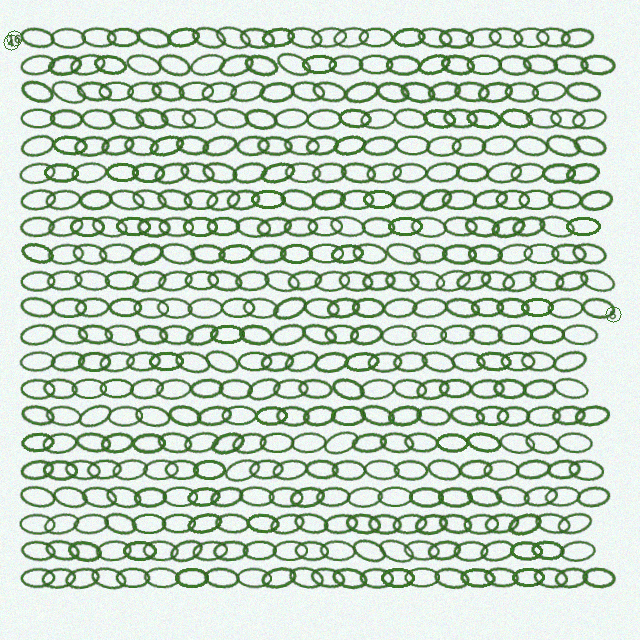chain: (273, 48, 314, 81), (48, 76, 89, 108), (269, 292, 310, 324), (376, 535, 417, 567), (75, 400, 115, 432), (577, 265, 618, 296), (213, 22, 253, 53), (416, 184, 456, 215), (202, 346, 242, 377), (321, 427, 361, 458), (349, 535, 389, 566), (222, 455, 263, 485), (18, 76, 57, 107), (167, 535, 206, 566), (216, 50, 256, 80), (383, 239, 423, 269), (155, 50, 194, 80), (127, 239, 166, 269), (183, 320, 222, 350), (244, 374, 283, 404), (329, 374, 368, 404), (208, 428, 247, 458), (505, 509, 544, 539), (189, 23, 229, 52), (188, 50, 228, 79), (543, 131, 583, 160), (537, 212, 577, 241), (433, 266, 473, 295), (268, 320, 308, 349), (299, 320, 339, 349), (550, 347, 590, 376), (357, 401, 397, 430), (555, 509, 595, 538), (415, 50, 454, 79), (18, 131, 57, 160), (18, 239, 57, 268), (282, 347, 321, 376), (101, 509, 140, 538), (262, 267, 302, 295), (134, 24, 173, 52), (124, 51, 163, 79), (310, 78, 349, 106), (342, 78, 381, 106), (398, 78, 437, 106), (107, 105, 146, 133), (147, 132, 186, 160), (200, 132, 239, 160), (152, 159, 191, 187), (258, 159, 297, 187), (130, 186, 169, 214), (130, 267, 169, 295), (500, 267, 539, 295), (173, 348, 212, 376), (523, 429, 562, 457), (51, 483, 90, 511), (104, 483, 143, 511), (42, 510, 81, 538), (268, 510, 307, 538), (89, 564, 128, 592), (242, 51, 280, 79), (571, 132, 609, 160), (204, 186, 242, 214), (489, 213, 527, 241), (553, 267, 591, 295), (419, 348, 457, 376), (208, 483, 246, 511), (285, 24, 324, 51), (68, 51, 107, 78), (228, 78, 267, 105), (178, 159, 217, 186), (200, 159, 239, 186), (230, 159, 269, 186), (155, 186, 194, 213), (278, 186, 317, 213), (46, 213, 85, 240), (90, 213, 129, 240), (328, 213, 367, 240), (158, 240, 197, 267), (570, 240, 609, 267), (205, 267, 244, 294), (454, 267, 493, 294), (18, 294, 57, 321), (18, 321, 57, 348), (551, 375, 590, 402), (182, 429, 221, 456), (464, 429, 503, 456), (18, 483, 57, 510), (493, 483, 532, 510), (185, 510, 224, 537), (533, 510, 572, 537), (43, 537, 82, 564), (478, 537, 517, 564), (259, 564, 298, 591), (287, 564, 326, 591), (149, 78, 187, 105), (133, 105, 171, 132), (99, 132, 137, 159), (331, 132, 369, 159), (510, 213, 548, 240), (19, 402, 57, 429), (166, 402, 204, 429), (425, 456, 463, 483), (292, 510, 330, 537), (18, 25, 57, 51), (570, 106, 609, 132), (18, 160, 57, 186), (107, 187, 146, 213), (156, 268, 195, 294), (133, 403, 172, 429), (230, 430, 269, 456), (63, 565, 102, 591), (330, 565, 369, 591), (432, 565, 471, 591), (238, 25, 276, 51), (416, 25, 454, 51), (19, 52, 57, 78), (374, 79, 412, 105), (476, 79, 514, 105), (564, 79, 602, 105), (242, 106, 280, 132), (512, 133, 550, 159), (255, 214, 293, 240), (71, 241, 109, 267), (496, 241, 534, 267), (408, 268, 446, 294), (443, 295, 481, 321), (103, 322, 141, 348), (98, 349, 136, 375), (312, 349, 350, 375), (414, 376, 452, 402), (195, 403, 233, 429), (448, 403, 486, 429), (498, 430, 536, 456), (271, 457, 309, 483), (80, 484, 118, 510), (288, 484, 326, 510), (465, 484, 503, 510), (309, 565, 347, 591), (70, 160, 109, 185), (46, 52, 83, 78), (92, 52, 129, 78), (564, 160, 601, 186), (390, 187, 427, 213), (578, 187, 615, 213), (479, 268, 516, 294), (580, 295, 617, 321), (19, 457, 56, 483), (413, 511, 450, 537), (437, 511, 474, 537), (66, 538, 103, 564), (310, 25, 348, 50), (332, 25, 370, 50), (487, 25, 525, 50), (521, 52, 559, 77), (75, 79, 113, 104), (159, 106, 197, 131), (212, 106, 250, 131), (339, 160, 377, 185), (485, 160, 523, 185), (19, 187, 57, 212), (471, 187, 509, 212), (463, 214, 501, 239), (351, 241, 389, 266), (73, 268, 111, 293), (286, 268, 324, 293), (528, 268, 566, 293), (51, 322, 89, 347), (76, 322, 114, 347), (49, 349, 87, 374), (573, 403, 611, 428), (74, 430, 112, 455), (156, 430, 194, 455), (378, 430, 416, 455), (111, 457, 149, 482), (514, 457, 552, 482), (344, 511, 382, 536), (483, 511, 521, 536), (165, 25, 202, 50), (260, 25, 297, 50), (439, 52, 476, 77), (289, 79, 326, 104), (426, 79, 463, 104), (392, 106, 429, 131), (498, 106, 535, 131), (174, 133, 211, 158), (304, 133, 341, 158), (480, 133, 517, 158), (424, 160, 461, 185), (225, 187, 262, 212), (310, 187, 347, 212), (325, 295, 362, 320), (237, 322, 274, 347), (348, 322, 385, 347), (128, 376, 165, 401), (301, 403, 338, 428), (386, 403, 423, 428), (99, 430, 136, 455), (522, 484, 559, 509), (575, 484, 612, 509), (426, 538, 463, 563), (532, 565, 569, 590), (553, 565, 590, 590), (200, 80, 238, 104), (359, 107, 397, 131), (365, 161, 403, 185), (509, 161, 547, 185), (44, 188, 82, 212), (234, 215, 272, 239), (410, 215, 448, 239), (47, 242, 85, 266), (313, 269, 351, 293), (337, 269, 375, 293), (242, 296, 280, 320), (358, 377, 396, 401), (41, 431, 79, 455), (350, 431, 388, 455), (567, 458, 605, 482), (346, 485, 384, 509), (72, 512, 110, 536), (322, 512, 360, 536), (391, 512, 429, 536), (191, 539, 229, 563), (465, 26, 502, 50), (559, 26, 596, 50), (258, 80, 295, 104), (421, 107, 458, 131), (465, 107, 502, 131), (549, 107, 586, 131), (73, 134, 110, 158), (123, 134, 160, 158), (361, 134, 398, 158), (425, 134, 462, 158), (217, 242, 254, 266), (329, 242, 366, 266), (156, 296, 193, 320), (303, 296, 340, 320), (411, 296, 448, 320), (133, 323, 170, 347), (259, 350, 296, 374), (343, 350, 380, 374), (155, 377, 192, 401), (297, 377, 334, 401), (391, 377, 428, 401), (521, 377, 558, 401), (45, 404, 82, 428), (415, 404, 452, 428), (64, 458, 101, 482), (363, 458, 400, 482), (559, 539, 596, 563), (40, 566, 77, 590), (284, 161, 322, 184), (561, 323, 599, 346), (319, 539, 357, 562), (143, 566, 181, 589), (497, 53, 533, 77), (80, 107, 116, 131), (361, 269, 397, 293), (384, 269, 420, 293), (382, 296, 418, 320), (450, 350, 486, 374), (186, 485, 222, 509), (20, 539, 56, 563), (80, 26, 117, 49), (552, 53, 589, 76), (579, 53, 616, 76), (126, 80, 163, 103), (453, 80, 490, 103), (531, 80, 568, 103), (181, 107, 218, 130), (273, 107, 310, 130), (442, 107, 479, 130), (525, 107, 562, 130), (51, 134, 88, 157), (283, 134, 320, 157), (311, 161, 348, 184), (19, 215, 56, 238), (98, 242, 135, 265), (550, 242, 587, 265), (46, 269, 83, 292), (74, 296, 111, 319), (439, 323, 476, 346), (19, 350, 56, 373), (125, 350, 162, 373), (392, 350, 429, 373), (475, 350, 512, 373), (520, 350, 557, 373), (42, 377, 79, 400), (290, 431, 327, 454), (556, 431, 593, 454), (86, 458, 123, 481), (142, 458, 179, 481), (238, 485, 275, 508), (544, 485, 581, 508), (214, 512, 251, 535), (95, 539, 132, 562), (142, 539, 179, 562), (212, 539, 249, 562), (403, 539, 440, 562), (203, 566, 240, 589), (483, 566, 520, 589), (380, 324, 418, 346), (391, 26, 427, 49), (535, 26, 571, 49), (337, 107, 373, 130), (235, 134, 271, 157), (78, 188, 114, 211), (442, 215, 478, 238), (234, 269, 270, 292), (495, 296, 531, 319), (468, 323, 504, 346), (189, 377, 225, 400), (492, 377, 528, 400), (551, 404, 587, 427), (20, 431, 56, 454), (403, 431, 439, 454), (248, 458, 284, 481), (304, 458, 340, 481), (458, 458, 494, 481), (546, 458, 582, 481), (245, 512, 281, 535), (530, 539, 566, 562), (581, 566, 617, 589), (256, 135, 293, 157), (189, 243, 226, 265), (250, 243, 287, 265), (547, 297, 584, 319), (272, 378, 309, 400), (469, 378, 506, 400), (525, 405, 562, 427), (483, 459, 520, 481), (19, 513, 56, 535), (459, 567, 496, 589), (50, 27, 86, 49), (438, 27, 474, 49), (328, 54, 364, 76), (385, 54, 421, 76), (306, 108, 342, 130), (451, 135, 487, 157), (43, 162, 79, 184), (392, 162, 428, 184), (136, 216, 172, 238), (158, 216, 194, 238), (283, 216, 319, 238), (412, 243, 448, 265), (441, 243, 477, 265), (467, 243, 503, 265), (20, 270, 56, 292), (133, 297, 169, 319), (187, 297, 223, 319), (158, 324, 194, 346), (367, 351, 403, 373), (20, 378, 56, 400), (107, 405, 143, 427), (275, 405, 311, 427), (42, 459, 78, 481), (331, 459, 367, 481), (393, 459, 429, 481), (268, 486, 304, 508), (315, 486, 351, 508), (408, 486, 444, 508), (437, 486, 473, 508), (367, 513, 403, 535), (463, 513, 499, 535), (453, 540, 489, 562), (20, 567, 56, 589), (236, 567, 272, 589), (513, 27, 550, 48), (523, 243, 560, 264), (504, 81, 539, 103), (49, 108, 84, 130), (541, 162, 576, 184), (361, 216, 396, 238), (218, 378, 253, 400), (254, 405, 289, 427), (496, 405, 531, 427), (131, 432, 166, 454), (435, 432, 470, 454), (133, 486, 168, 508), (294, 540, 329, 562), (509, 540, 544, 562), (359, 567, 394, 589), (358, 27, 394, 48), (301, 54, 337, 75), (358, 54, 394, 75), (466, 54, 502, 75), (98, 81, 134, 102), (178, 81, 214, 102), (20, 108, 56, 129), (395, 135, 431, 156), (183, 189, 219, 210), (250, 189, 286, 210), (339, 189, 375, 210), (441, 189, 477, 210), (518, 189, 554, 210), (547, 189, 583, 210), (69, 216, 105, 237), (115, 216, 151, 237), (182, 216, 218, 237), (307, 216, 343, 237), (387, 216, 423, 237), (565, 216, 601, 237), (308, 243, 344, 264), (104, 270, 140, 291), (51, 297, 87, 318), (220, 297, 256, 318), (209, 324, 245, 345), (411, 324, 447, 345), (497, 324, 533, 345), (529, 324, 565, 345), (148, 351, 184, 372), (237, 351, 273, 372), (500, 351, 536, 372), (71, 378, 107, 399), (221, 405, 257, 426), (330, 405, 366, 426), (259, 432, 295, 453), (162, 486, 198, 507), (377, 486, 413, 507), (131, 513, 167, 534), (272, 540, 308, 561), (115, 567, 151, 588), (404, 567, 440, 588), (106, 27, 141, 48), (105, 162, 140, 183), (131, 162, 166, 183), (455, 162, 490, 183), (362, 189, 397, 210), (495, 189, 530, 210), (206, 216, 241, 237), (279, 243, 314, 264), (184, 270, 219, 291), (108, 297, 143, 318), (351, 297, 386, 318), (470, 297, 505, 318), (520, 297, 555, 318), (324, 324, 359, 345), (77, 351, 112, 372), (99, 378, 134, 399), (438, 378, 473, 399), (475, 405, 510, 426), (164, 459, 199, 480), (192, 459, 227, 480), (161, 513, 196, 534), (122, 540, 157, 561), (242, 540, 277, 561), (174, 567, 209, 588), (380, 567, 415, 588), (511, 567, 546, 588)
noise: (603, 304, 623, 324), (1, 32, 21, 52), (4, 28, 24, 48)
